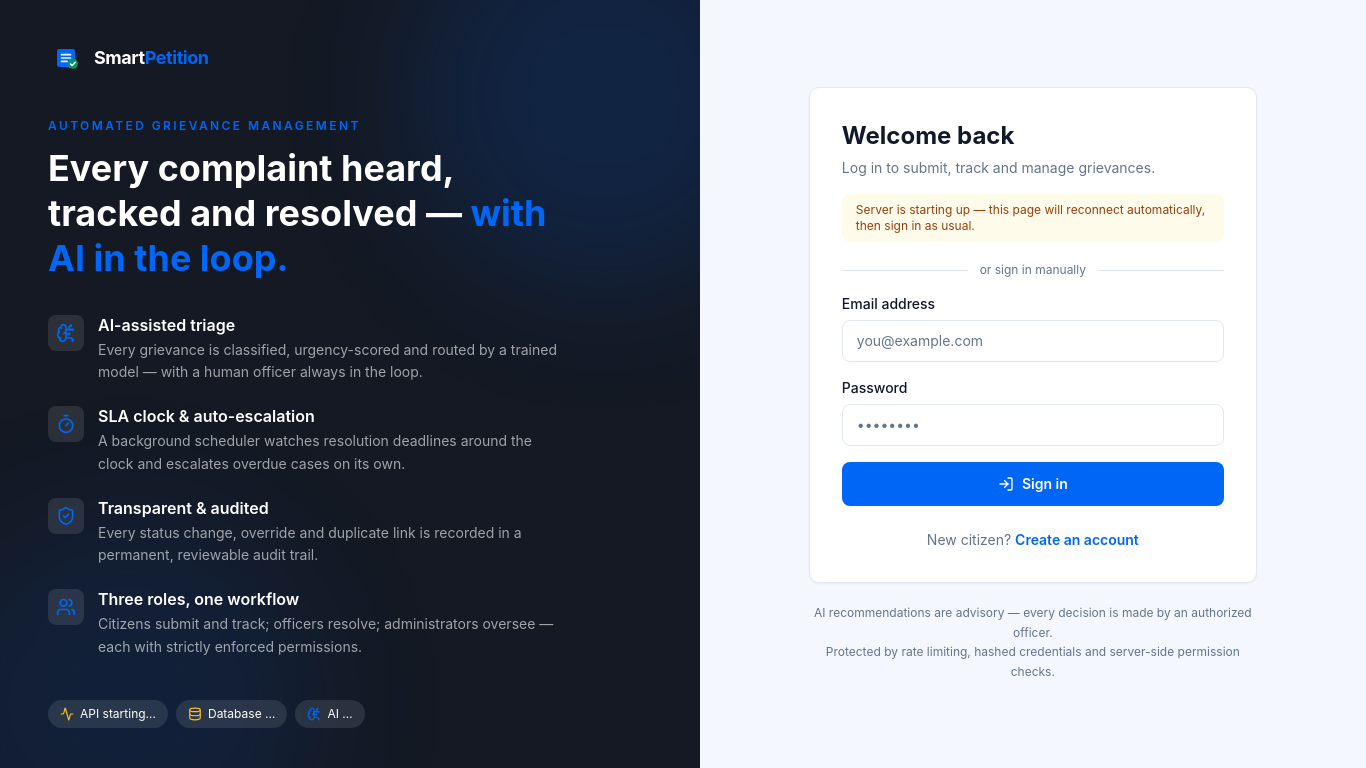
Test: login form › surfaces backend error messages
This screenshot has width=1366, height=768.
In the field labelled "Email address": (1033, 341) [842,320,1224,362], type "someone@example.com"
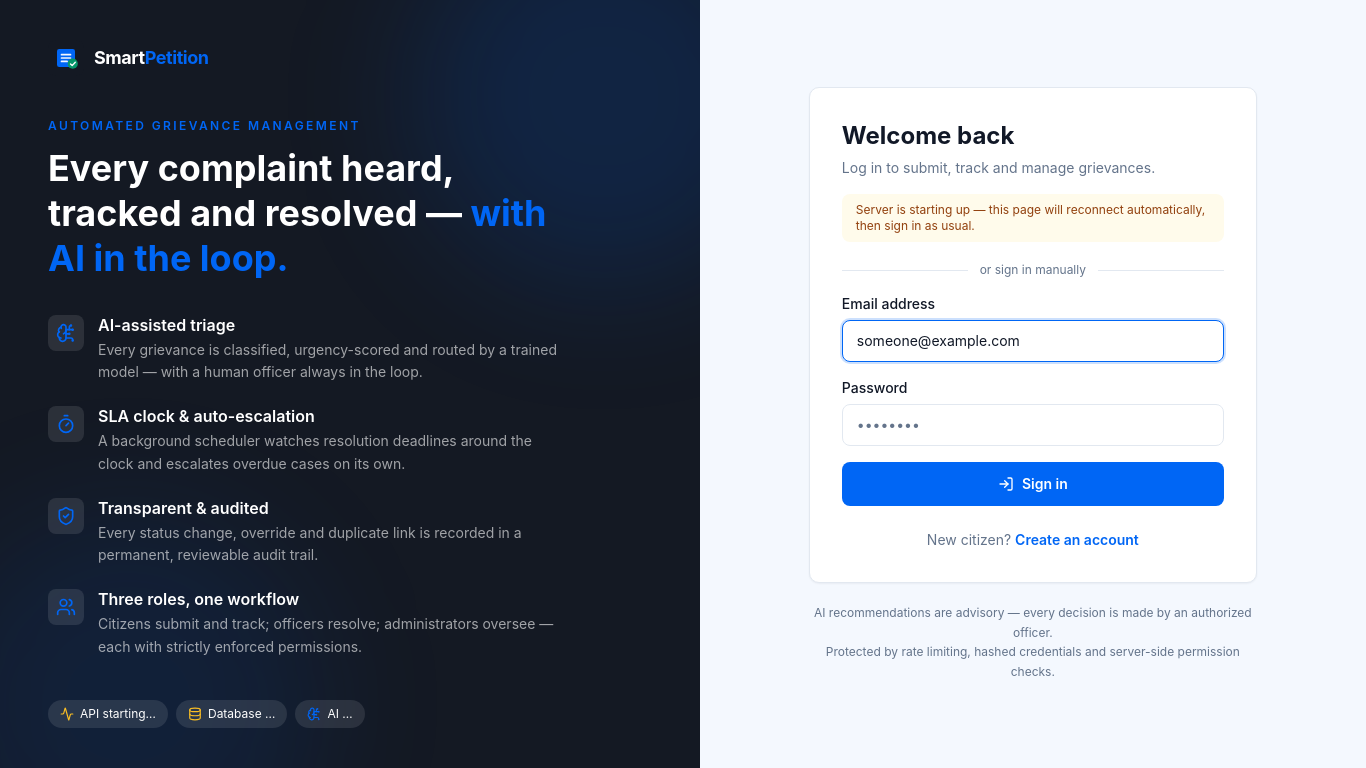
In the password field labelled "Password": (1033, 425) [842,404,1224,446], type "WrongPass1"
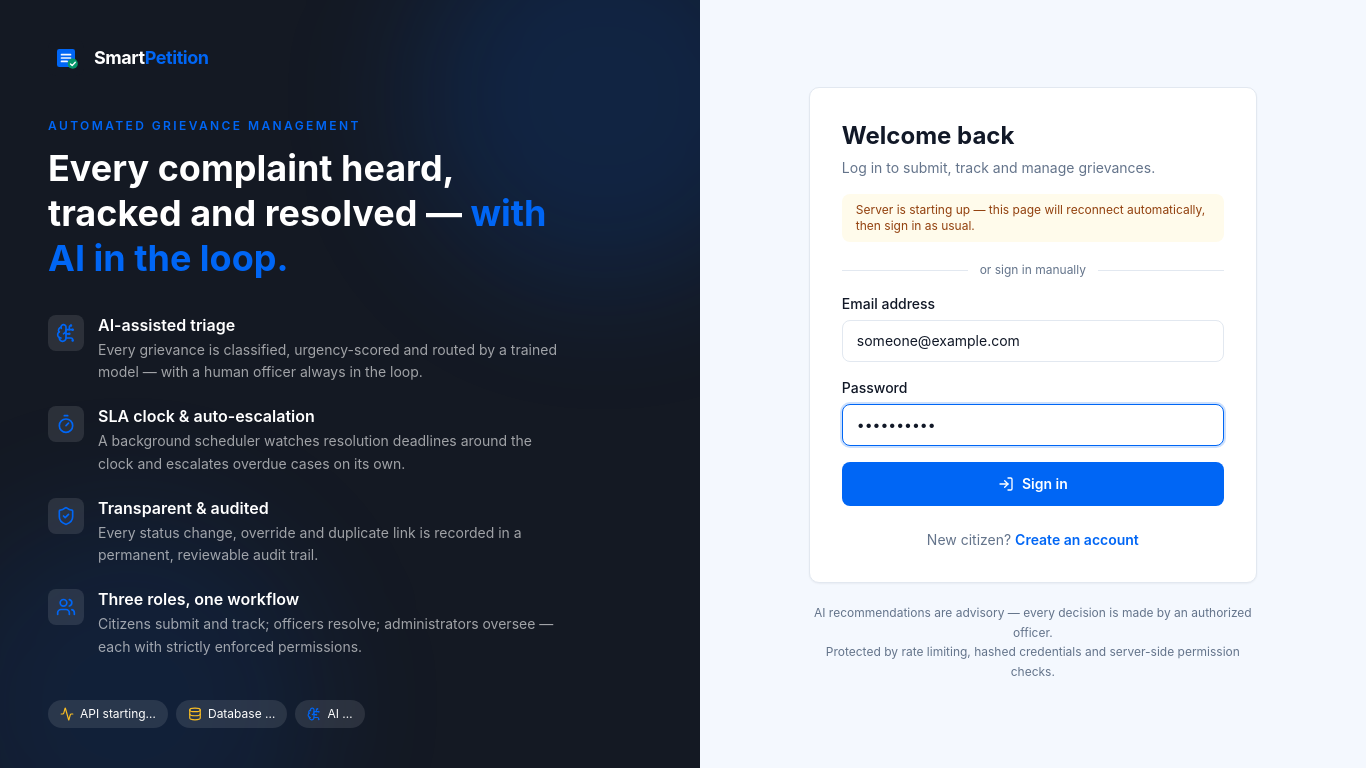
Click the button "Sign in": (1033, 484) [842,462,1224,506]
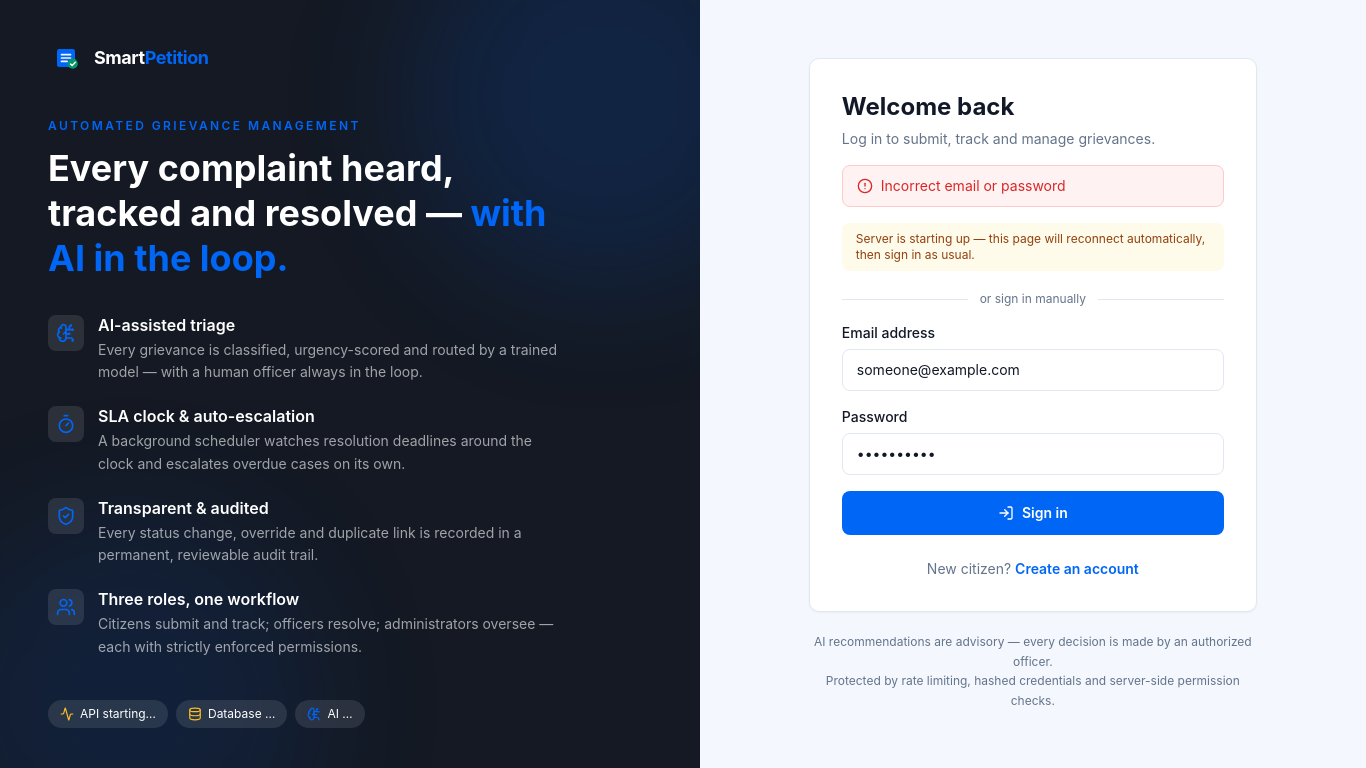
Now the message "Incorrect email or password" is shown, box [842,165,1224,207]
